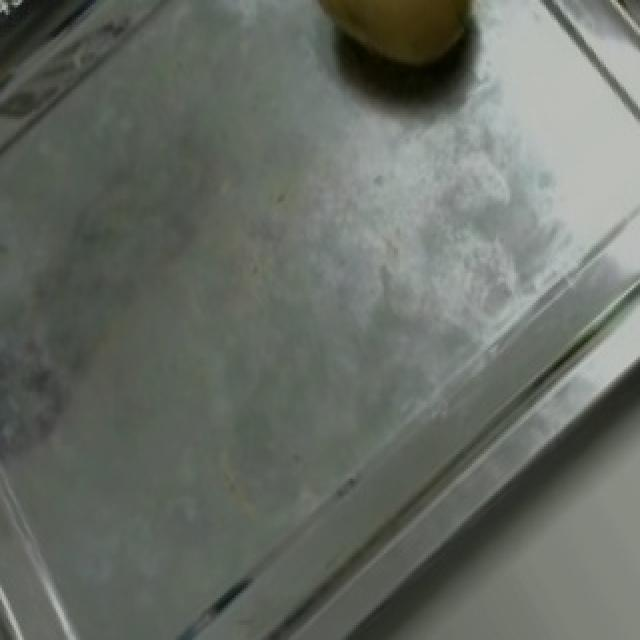Fruit: (290, 0, 508, 119)
